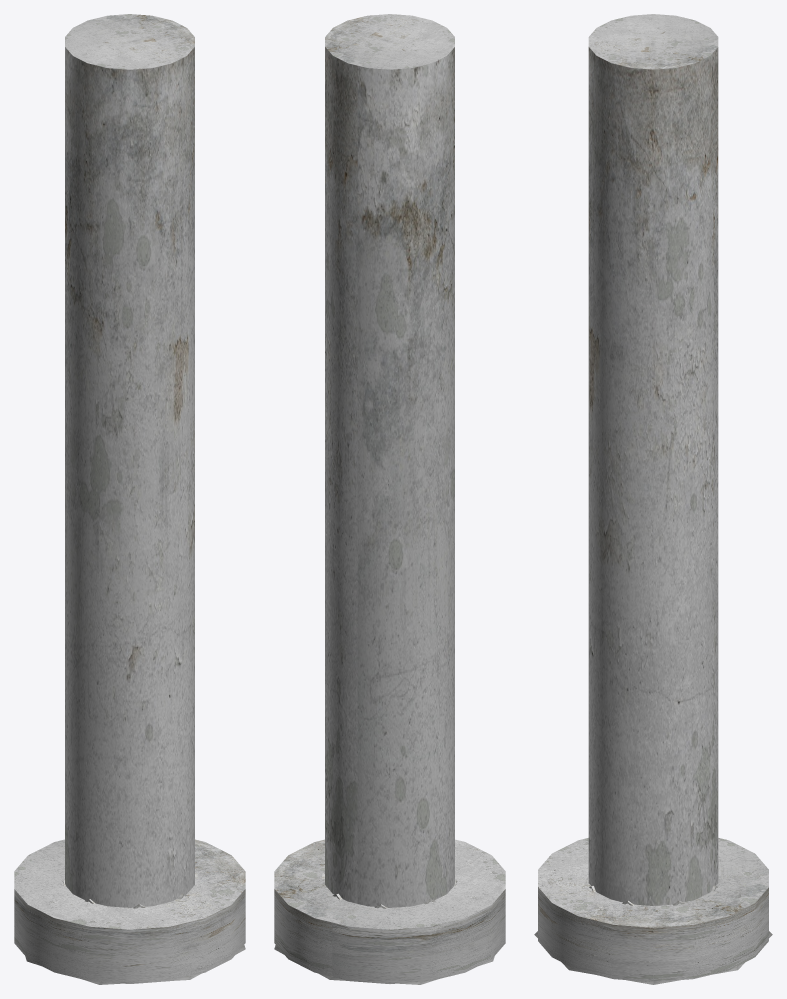
The model's file is dick2.obj.
3 views of the same model, side by side, from view 1: azimuth 30°, elevation 25°; view 2: azimuth 150°, elevation 25°; view 3: azimuth 270°, elevation 25° (orthographic).
Visible parts, largest first — view 1: Cylinder004, Cylinder003; view 2: Cylinder004, Cylinder003; view 3: Cylinder004, Cylinder003.
Boxes of the visible parts, x1=… form: Cylinder004: x1=65, y1=14, x2=194, y2=907; Cylinder003: x1=14, y1=839, x2=245, y2=983; Cylinder004: x1=325, y1=14, x2=454, y2=907; Cylinder003: x1=274, y1=839, x2=505, y2=983; Cylinder004: x1=588, y1=14, x2=718, y2=905; Cylinder003: x1=538, y1=838, x2=768, y2=981.
Size of the model in its own units: 229 by 945 by 229.
